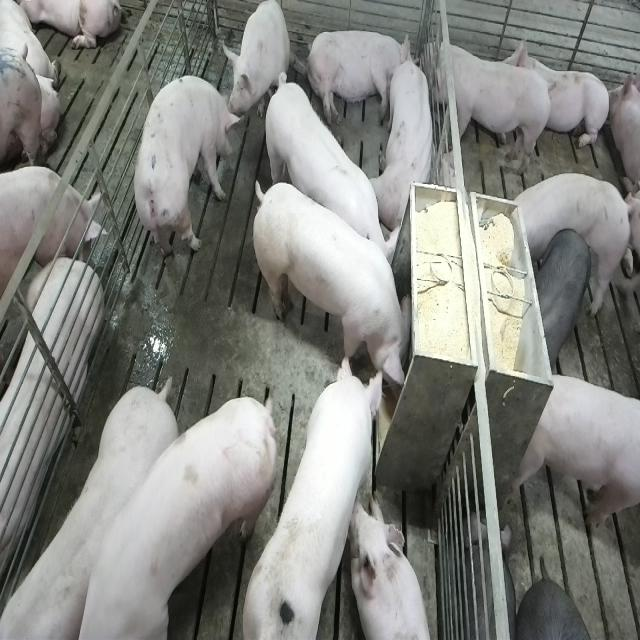Feeding: (243, 353, 396, 634), (256, 172, 420, 396)
Lateral_lying: (0, 251, 100, 619), (306, 27, 412, 127)
Sitting: (226, 1, 292, 130)
Standing: (0, 379, 176, 640), (126, 386, 278, 635), (261, 70, 397, 286), (128, 75, 238, 281), (508, 371, 638, 534), (509, 172, 632, 320), (424, 53, 554, 179), (0, 165, 101, 311), (536, 228, 596, 372)
Sternal_lying: (508, 31, 611, 155), (375, 44, 438, 232), (354, 494, 434, 640)
